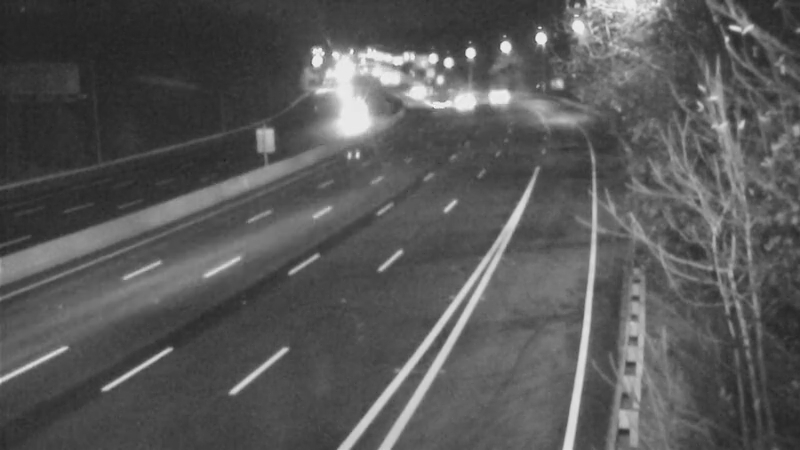vehicle: (415, 68, 465, 118), (437, 77, 487, 127), (470, 70, 520, 120), (331, 99, 381, 149)
